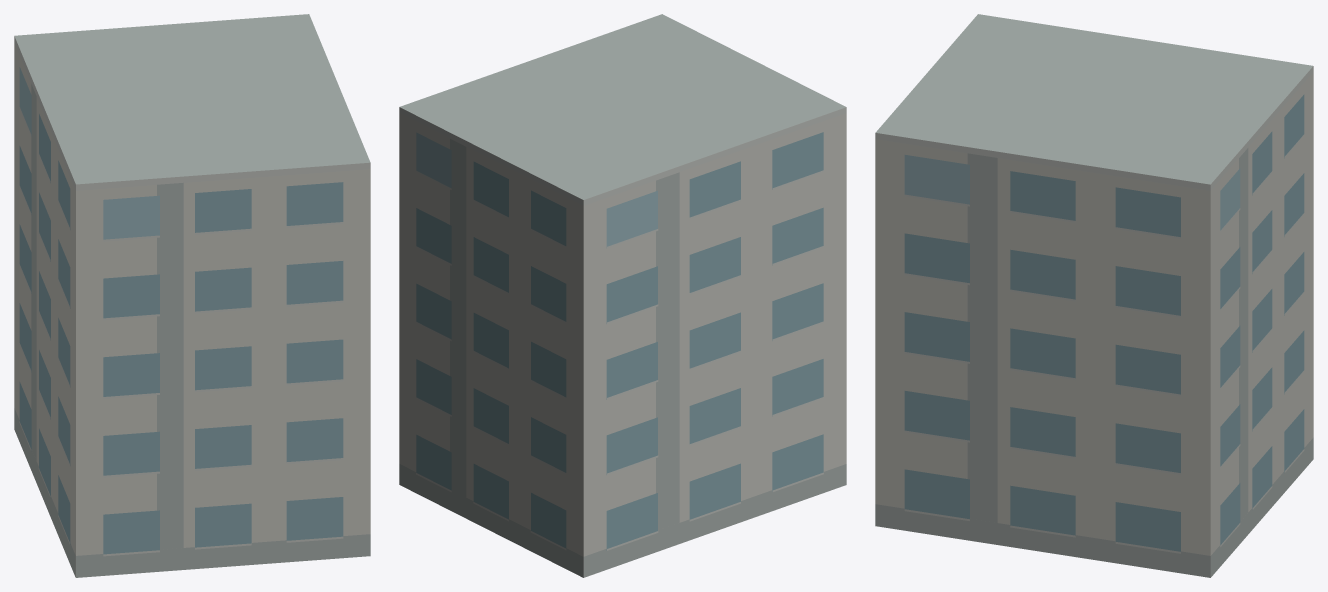
The model's file is residential-bba21422-ccb2-4795-aa4a-e8f571855121.glb.
3 renders of one model, left to right at view 1: azimuth 30°, elevation 25°; view 2: azimuth 150°, elevation 25°; view 3: azimuth 270°, elevation 25°, orthographic. The views are drawn at different scales.
Visible parts, largest first — view 1: residential-bba21422-ccb2-4795-aa4a-e8f571855121.tmp; view 2: residential-bba21422-ccb2-4795-aa4a-e8f571855121.tmp; view 3: residential-bba21422-ccb2-4795-aa4a-e8f571855121.tmp.
Boxes of the visible parts, bbox=[...] form: residential-bba21422-ccb2-4795-aa4a-e8f571855121.tmp: bbox=[14, 14, 370, 577]; residential-bba21422-ccb2-4795-aa4a-e8f571855121.tmp: bbox=[399, 14, 846, 577]; residential-bba21422-ccb2-4795-aa4a-e8f571855121.tmp: bbox=[875, 14, 1313, 577].
Bounding box in the file's own units: 14.19 × 15.25 × 15.41.
